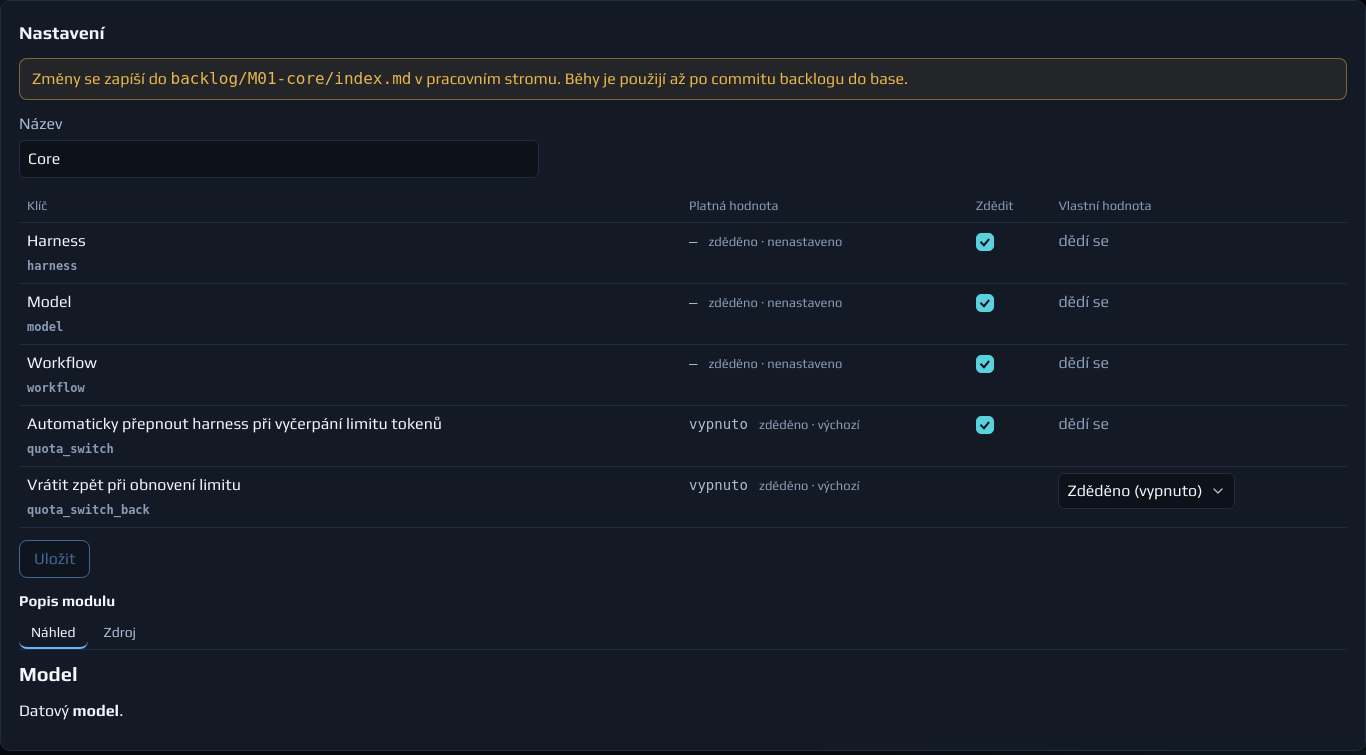
it: ContainerSettings › quota chain of a project › does not save the switch on without a harness
Click the checkbox with test id "inherit-quota_switch". click: {"x": 985, "y": 425}
box: [976, 416, 994, 434]
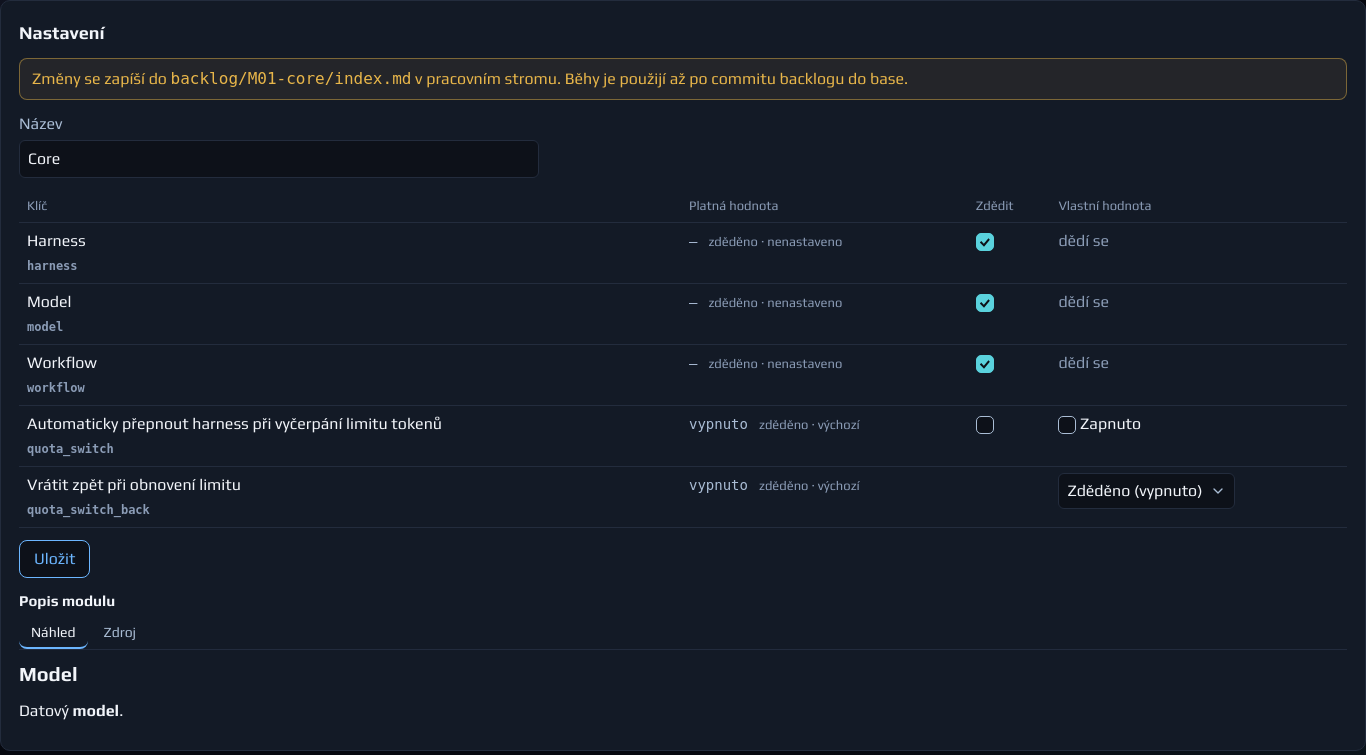
Click the checkbox with test id "quota-switch-on". click: {"x": 1067, "y": 425}
box: [1058, 416, 1076, 434]
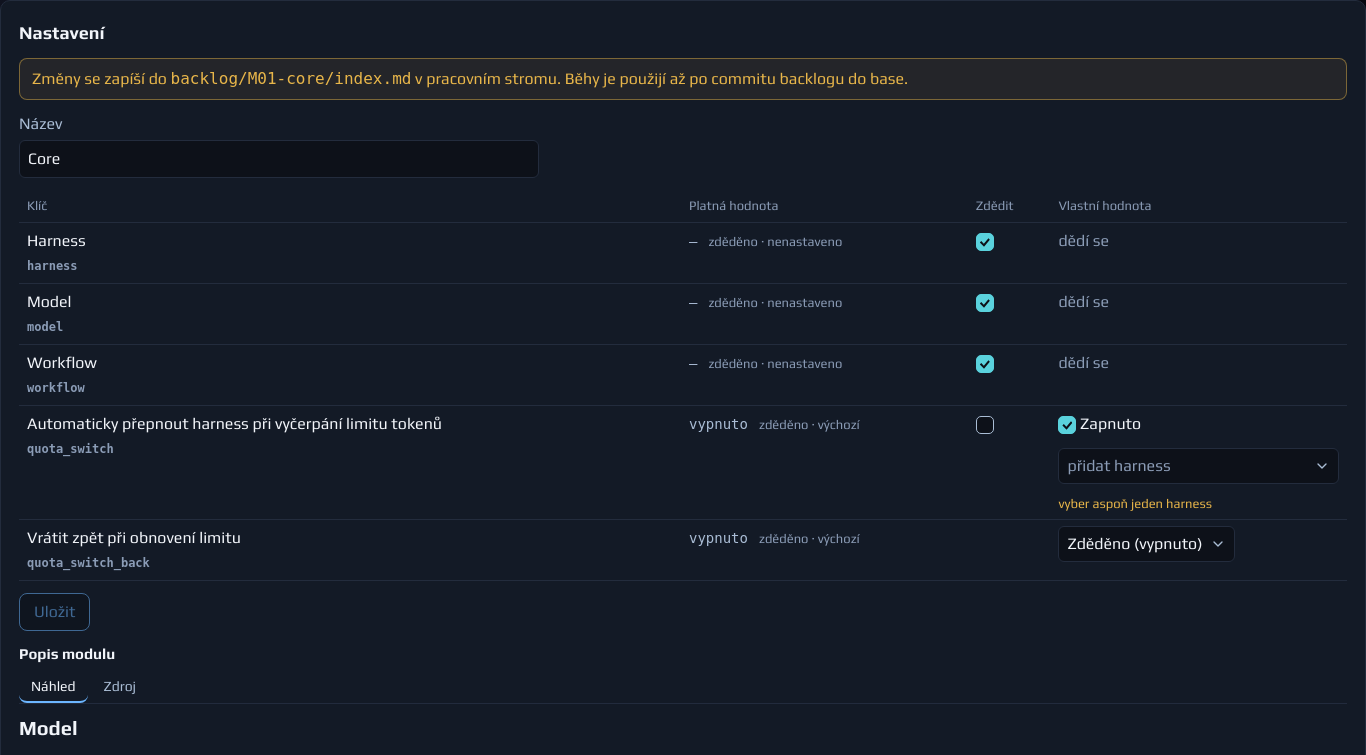
Expected: the text with test id "chain-hint" reads "vyber aspoň jeden harness", [1058, 496, 1212, 510]
Click the dropdown with test id "edit-quota_switch_back". click: {"x": 1147, "y": 544}
box: [1058, 526, 1236, 562]
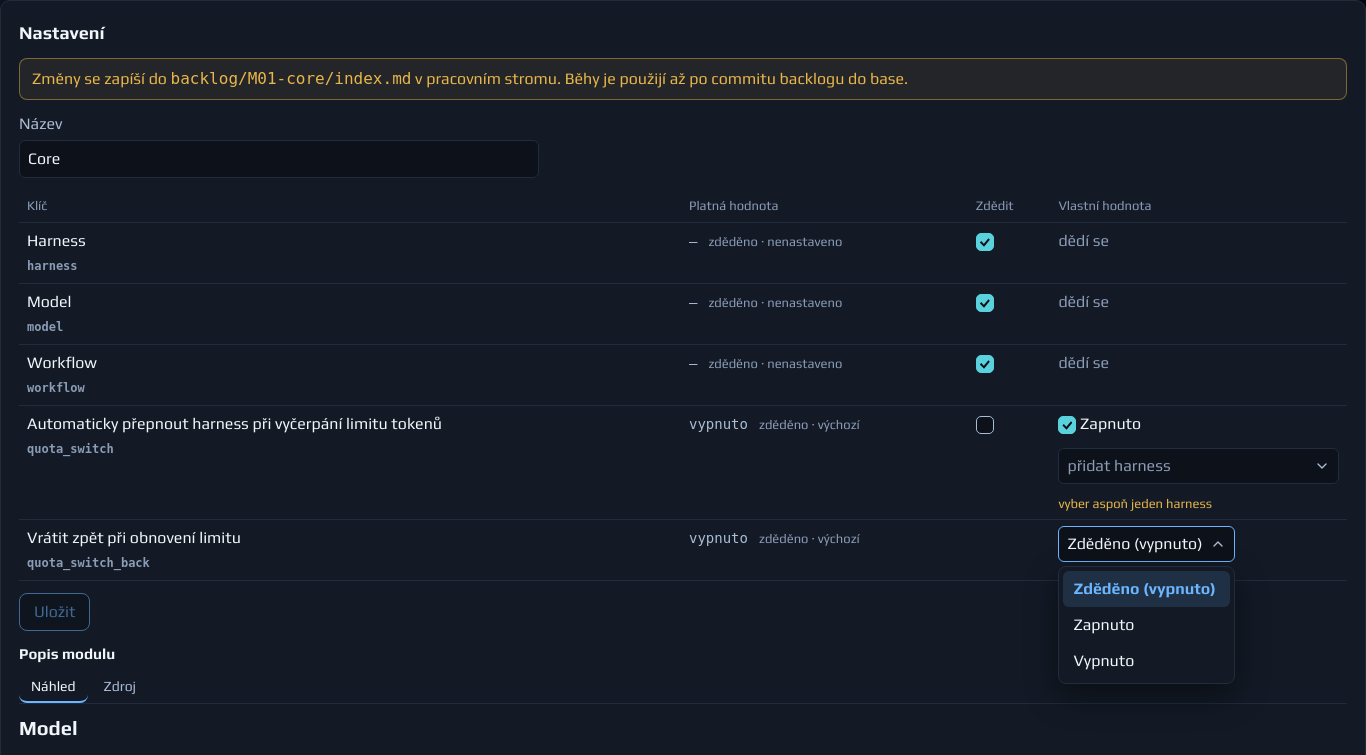
Click the option "Zapnuto". click: {"x": 1104, "y": 624}
box: [1073, 615, 1134, 634]
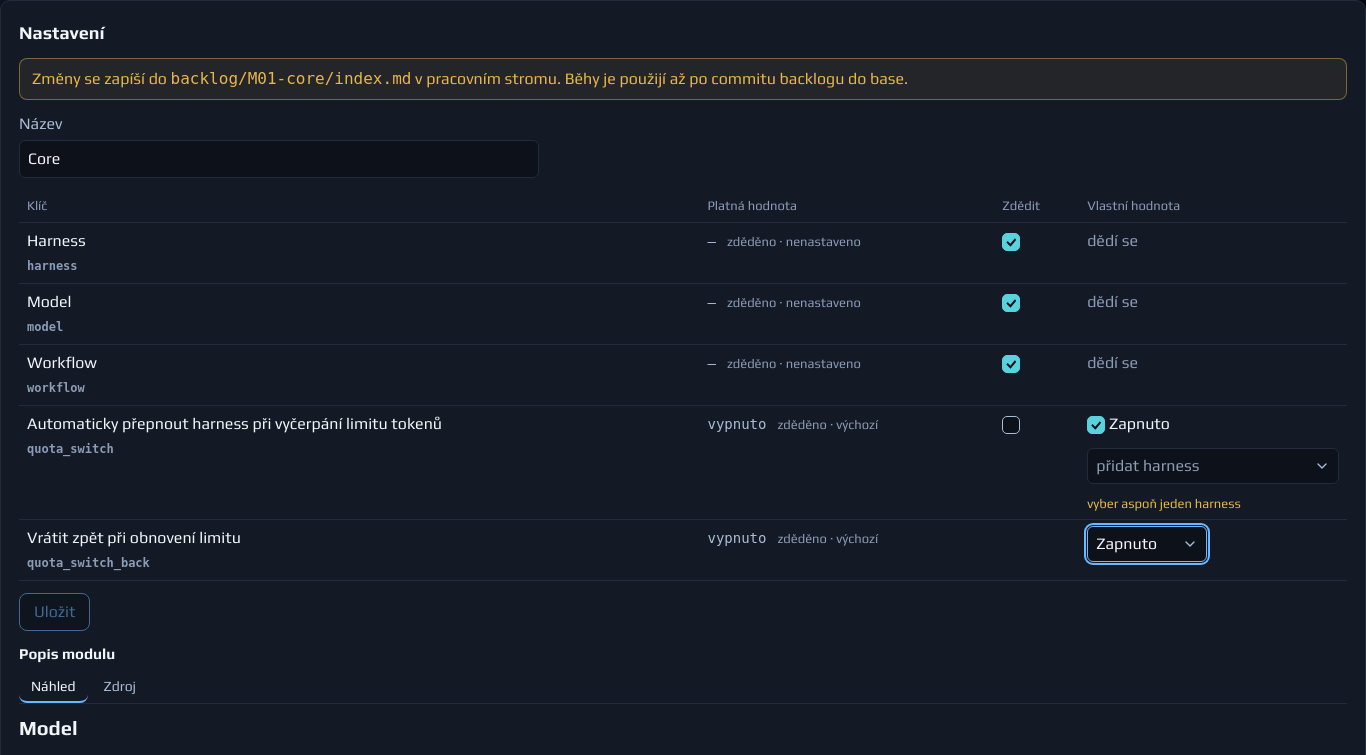
Expected: the button with test id "settings-save" is disabled, [19, 593, 90, 631]
Click the dropdown with test id "chain-add". click: {"x": 1213, "y": 466}
box: [1087, 448, 1339, 484]
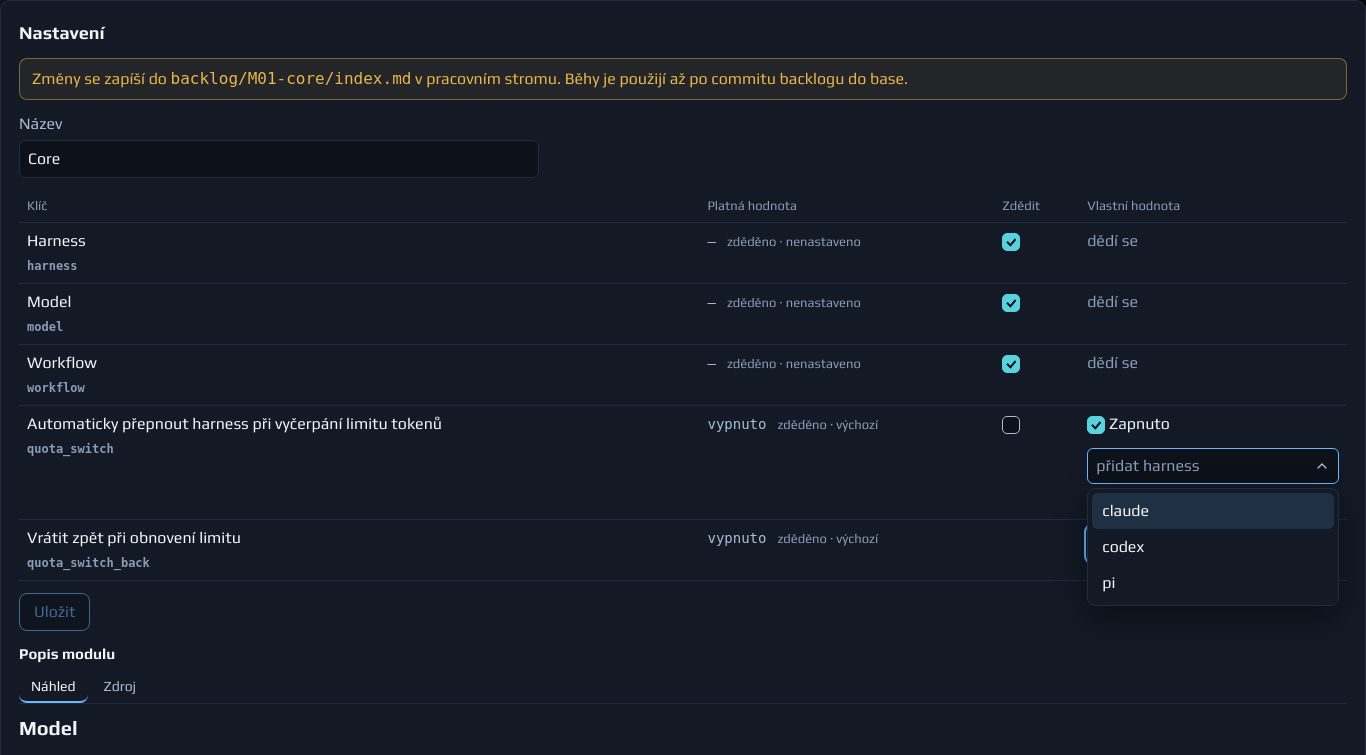
Click the option "codex". click: {"x": 1123, "y": 546}
box: [1102, 536, 1144, 556]
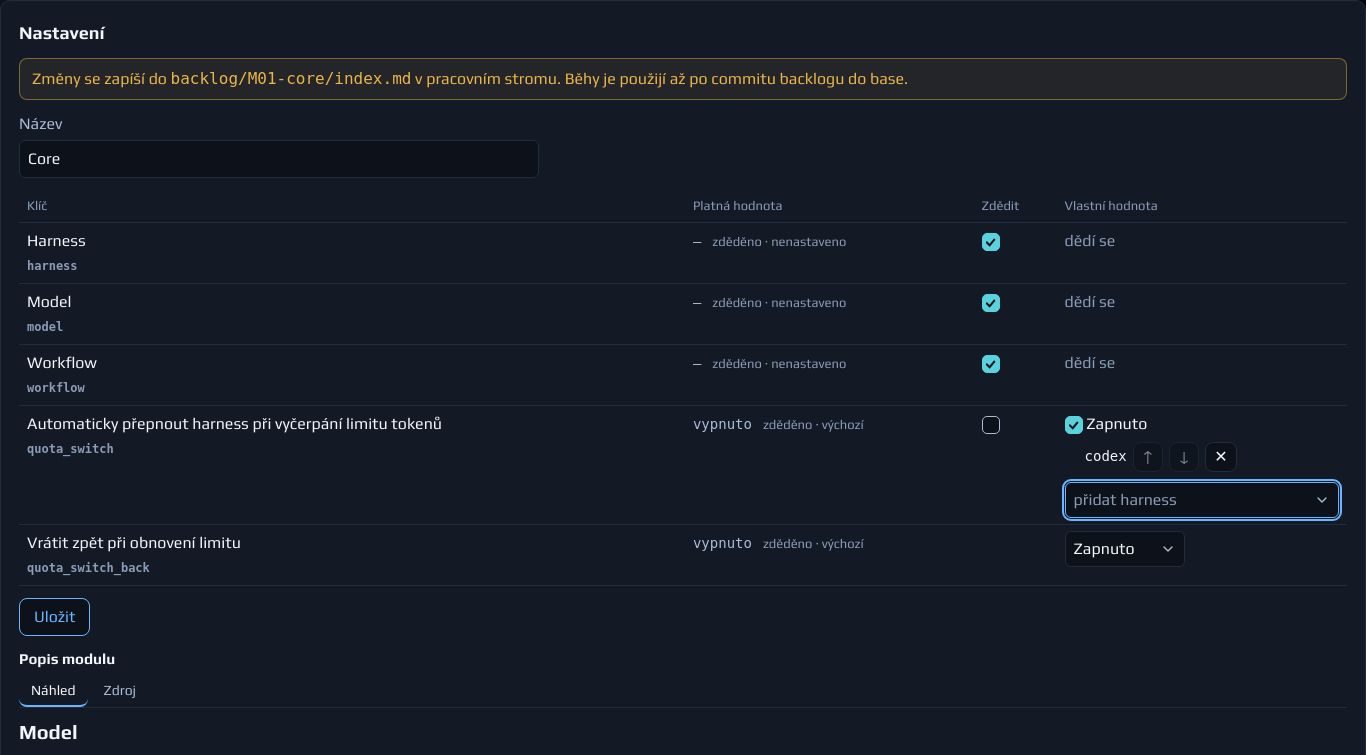
Expected: the button with test id "settings-save" is enabled, [19, 598, 90, 636]
